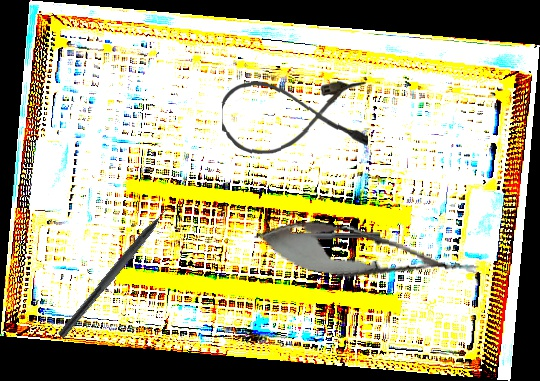Cannula: (220, 77, 369, 156)
Chopper: (57, 196, 185, 347), (254, 223, 381, 243)
Micro Scissor: (249, 210, 485, 297)
